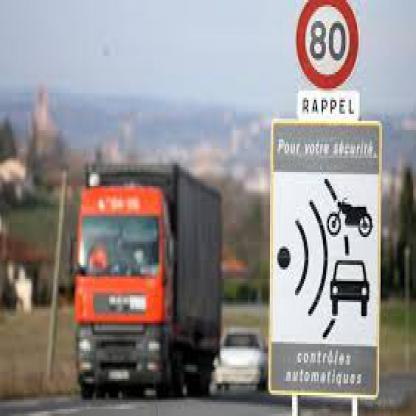Speed Limit 80: (299, 3, 356, 86)
